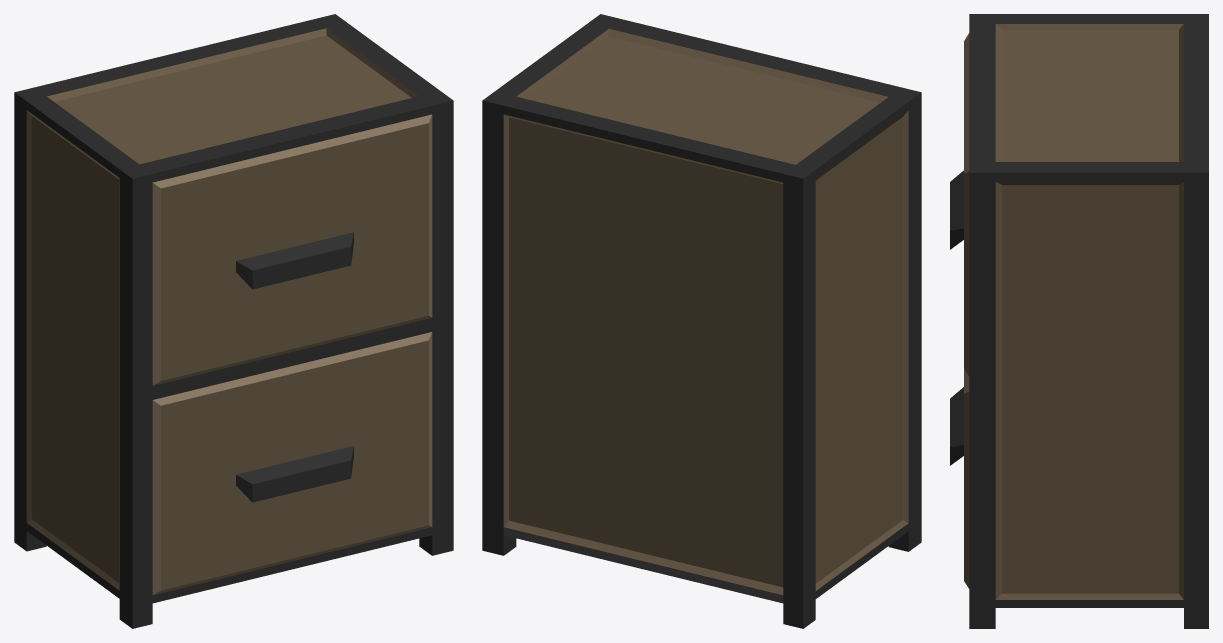
File: Drawer.fbx
The picture shows the model from 3 angles, left to right: view 1: azimuth 30°, elevation 25°; view 2: azimuth 150°, elevation 25°; view 3: azimuth 270°, elevation 25°; orthographic projection.
Visible parts, largest first — view 1: pCube243; view 2: pCube243; view 3: pCube243.
Boxes of the visible parts, x1,y1,x2,y2 form: pCube243: [14, 14, 453, 628]; pCube243: [482, 14, 921, 628]; pCube243: [950, 14, 1208, 628].
Size of the model in its own units: 1.94 by 2.6 by 1.34.
